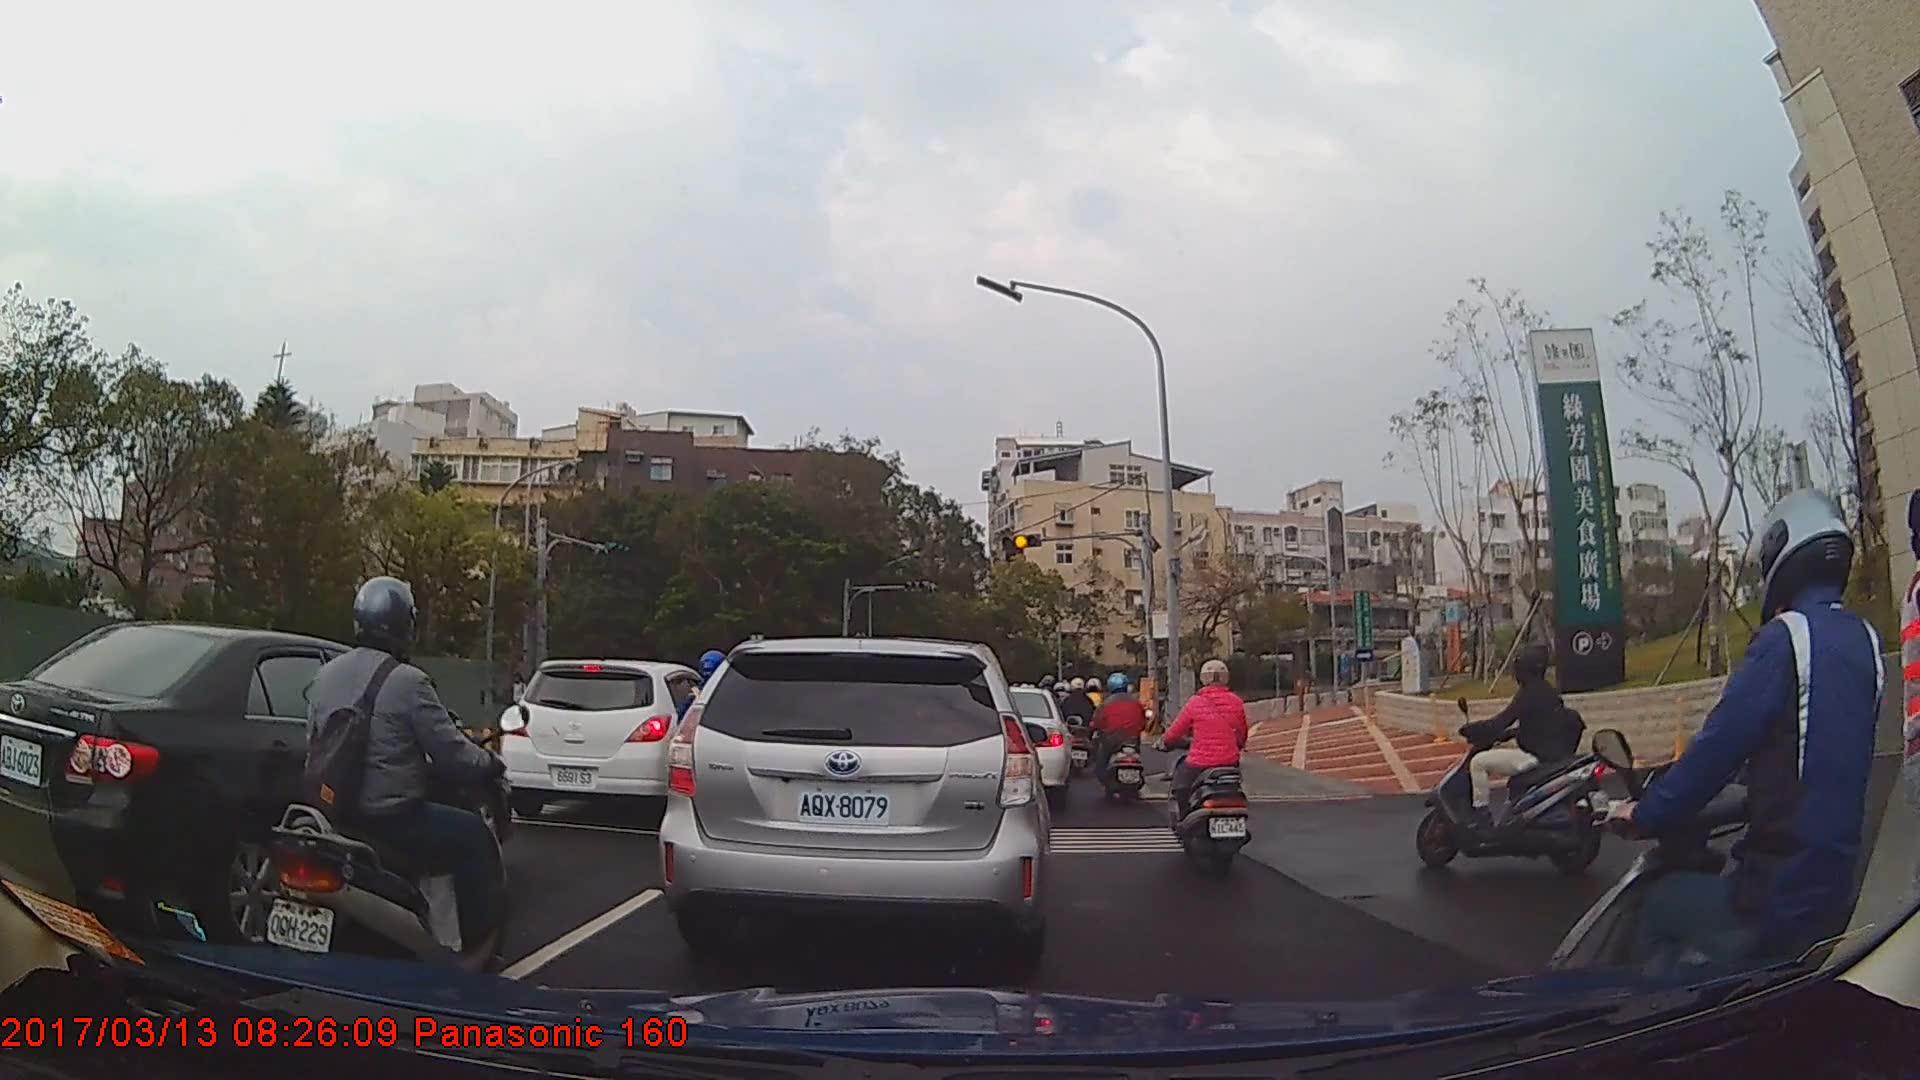pedestrian: (1895, 482, 1920, 979), (509, 673, 530, 730)
rider: (1542, 496, 1920, 1080), (263, 570, 513, 1013), (1419, 648, 1614, 872), (1164, 656, 1254, 874), (1093, 669, 1154, 815), (1063, 674, 1103, 778)
vehicle: (0, 618, 510, 956), (656, 635, 1049, 959), (499, 658, 725, 823), (962, 685, 1072, 804)
